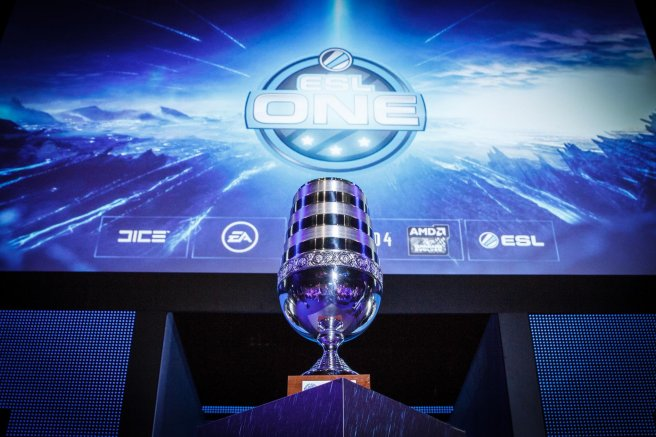trophy: (274, 175, 381, 401)
